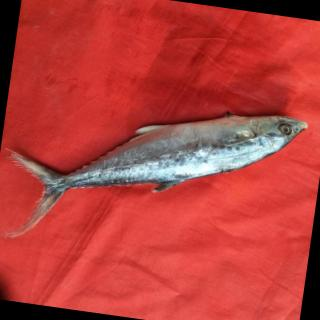Ikan: (1, 50, 316, 281)
